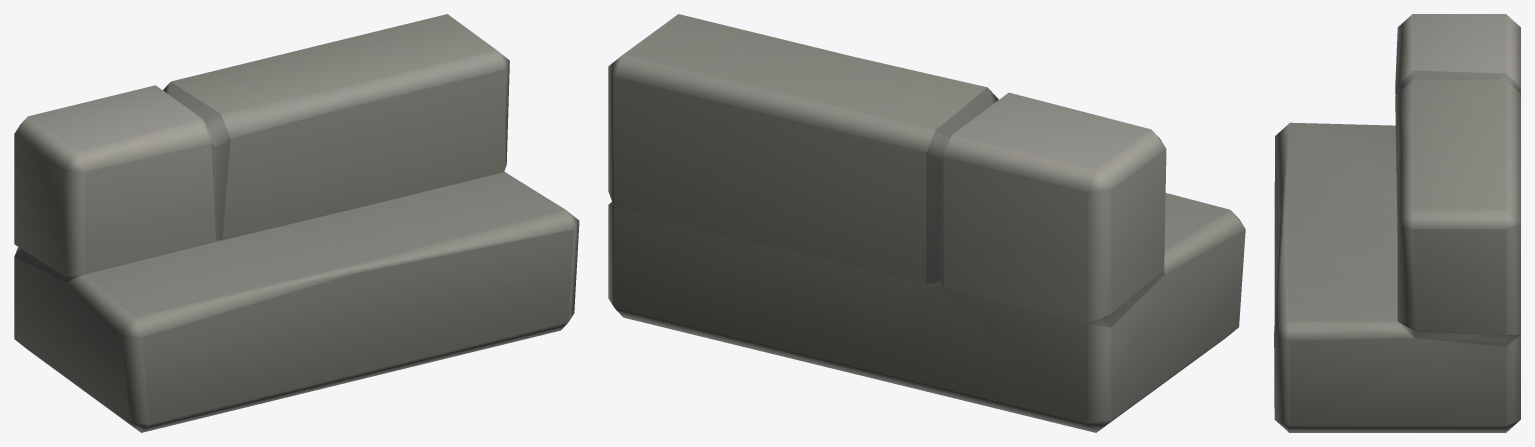
The model's file is stairs_half_2_shade_1.fbx.
3 views of the same model, side by side, from view 1: azimuth 30°, elevation 25°; view 2: azimuth 150°, elevation 25°; view 3: azimuth 270°, elevation 25° (orthographic). The views are drawn at different scales.
Parts seen in each view (by area): view 1: stairs_half_2_shade_1; view 2: stairs_half_2_shade_1; view 3: stairs_half_2_shade_1.
Boxes of the visible parts, left/top/right/bottom form: stairs_half_2_shade_1: left=14, top=14, right=579, bottom=432; stairs_half_2_shade_1: left=608, top=14, right=1245, bottom=432; stairs_half_2_shade_1: left=1274, top=14, right=1520, bottom=432.
Size of the model in its own units: 102 by 50.51 by 50.1.
